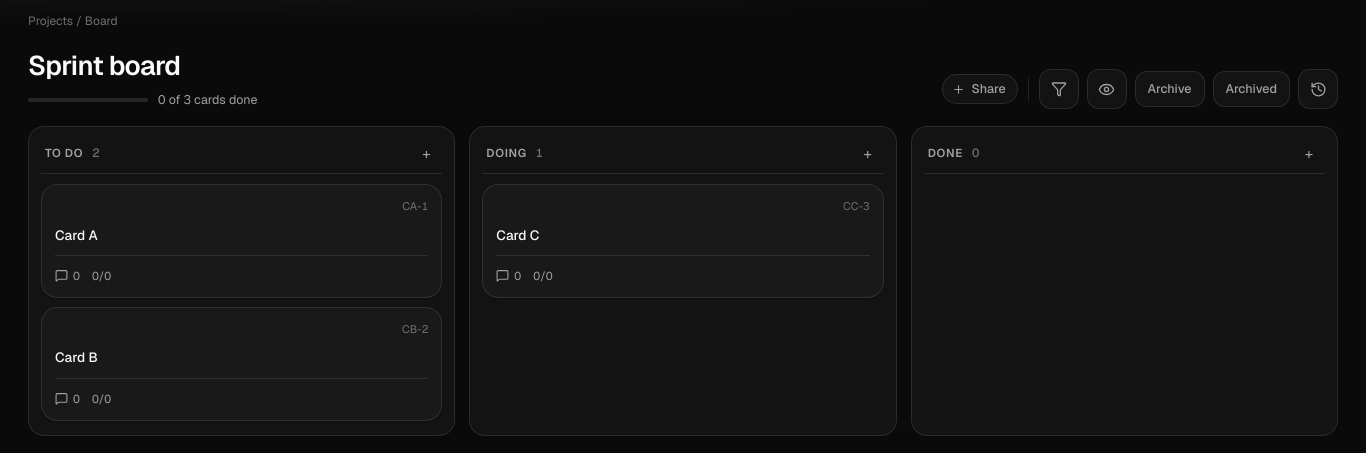
Scenario: ProjectBoard › does not let an older activity load overwrite a newer one
What coordinates should you click on to do the following:
click the button named "Activity log"
I would click on:
 (1318, 89)
Its box is [1298,69,1338,109].
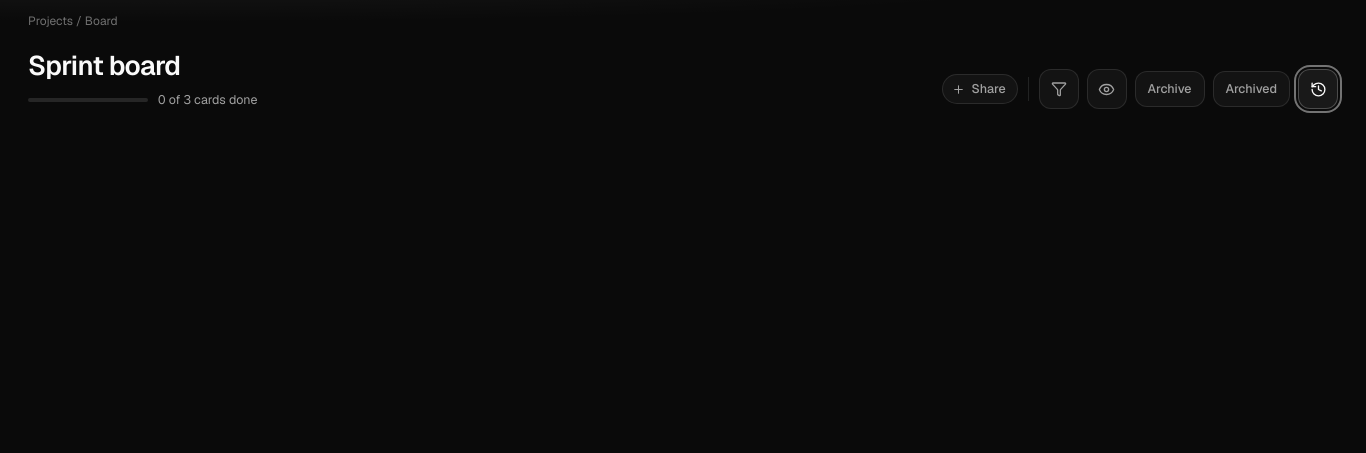
What coordinates should you click on to do the following:
click the button named "Activity log"
I would click on:
 (1318, 89)
Its box is [1298,69,1338,109].
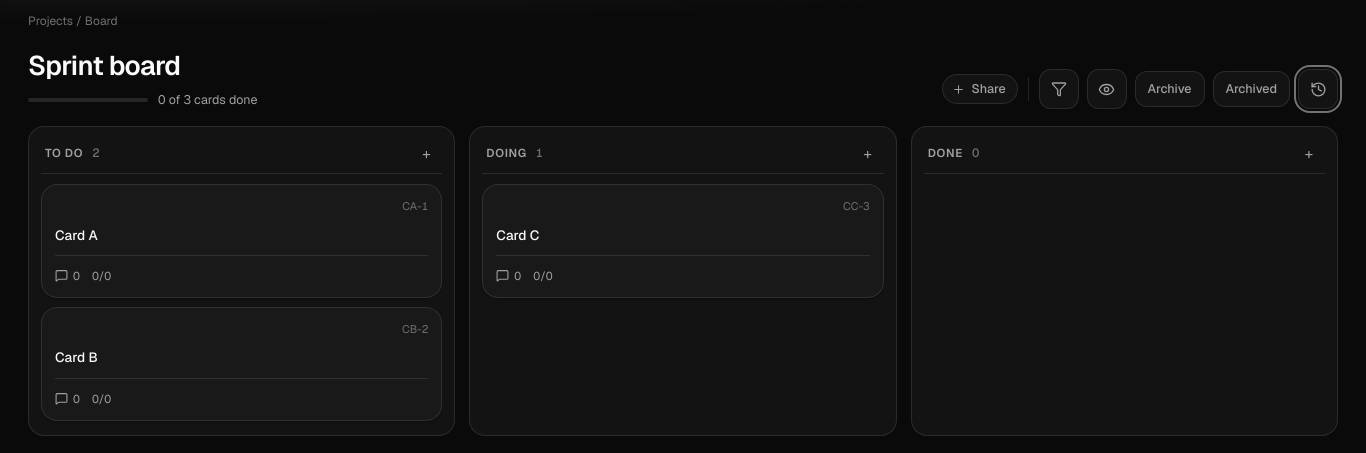
What coordinates should you click on to do the following:
click the button named "Activity log"
I would click on:
 (1318, 89)
Its box is [1298,69,1338,109].
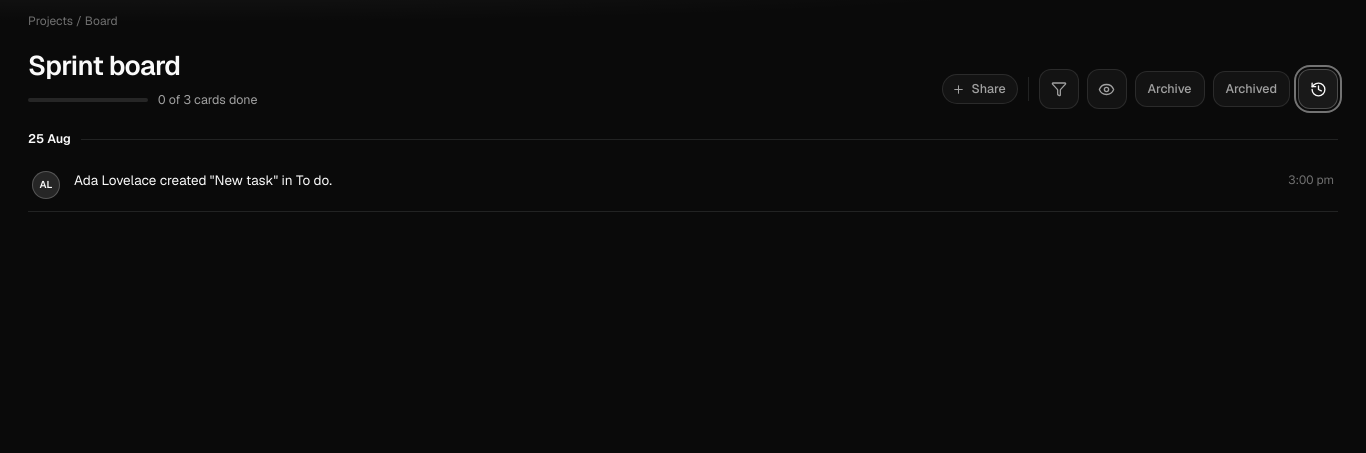
expect the element named "Activity log" is shown: met, box [0,126,1365,240]
expect the text "Ada Lovelace created \"New task\" in To do." is shown: met, box [74,171,332,189]
